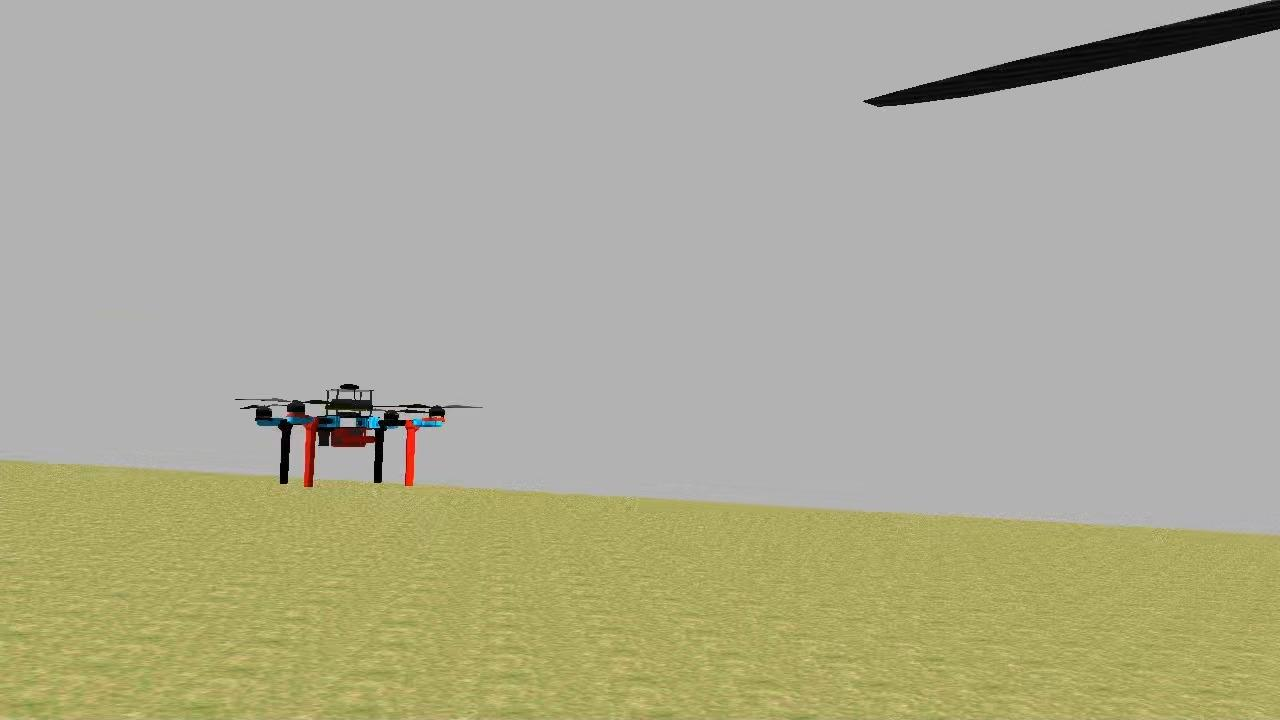UAV: (246, 378, 454, 498)
